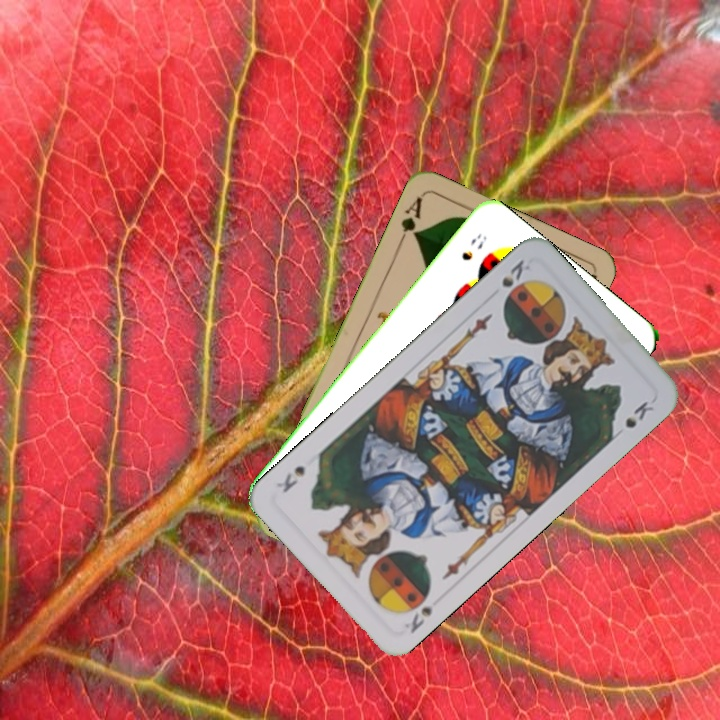GA: (394, 192, 425, 249)
S8: (457, 230, 490, 264)
SK: (497, 255, 533, 290), (400, 602, 435, 637)
